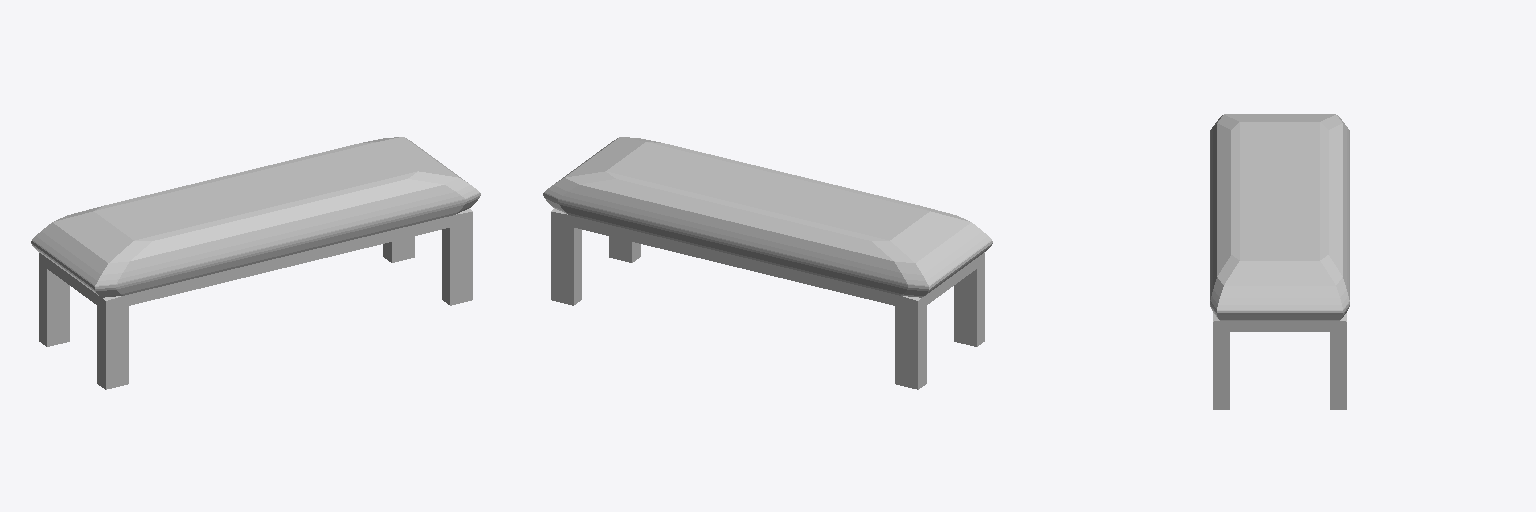
Rendered from bench.obj.
3 views of the same model, side by side, from view 1: azimuth 30°, elevation 25°; view 2: azimuth 150°, elevation 25°; view 3: azimuth 270°, elevation 25° (orthographic).
Parts seen in each view (by area): view 1: Cube; view 2: Cube; view 3: Cube.
Part boxes in pixels (bbox=[...]): Cube: bbox=[31, 137, 480, 389]; Cube: bbox=[543, 137, 992, 389]; Cube: bbox=[1210, 114, 1349, 409].
Size of the model in its own units: 1.23 by 0.3931 by 0.3853.